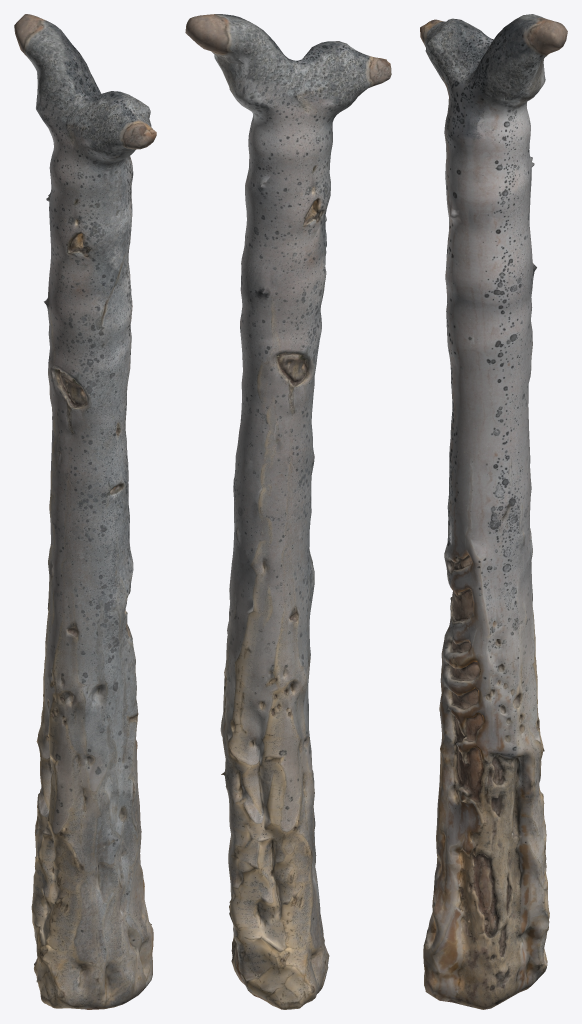
Rendered from dead_quiver_trunk_1k.gltf.
3 views of the same model, side by side, from view 1: azimuth 90°, elevation 25°; view 2: azimuth 150°, elevation 25°; view 3: azimuth 270°, elevation 25° (orthographic). The views are drawn at different scales.
Visible parts, largest first — view 1: dead_quiver_trunk_LOD0; view 2: dead_quiver_trunk_LOD0; view 3: dead_quiver_trunk_LOD0.
Part boxes in pixels (<box>): dead_quiver_trunk_LOD0: <box>14,14,156,1009</box>; dead_quiver_trunk_LOD0: <box>185,14,391,1009</box>; dead_quiver_trunk_LOD0: <box>420,14,567,1009</box>.
Bounding box in the file's own units: 0.3065 × 1.99 × 0.2681.
1 material, 1 textured.
